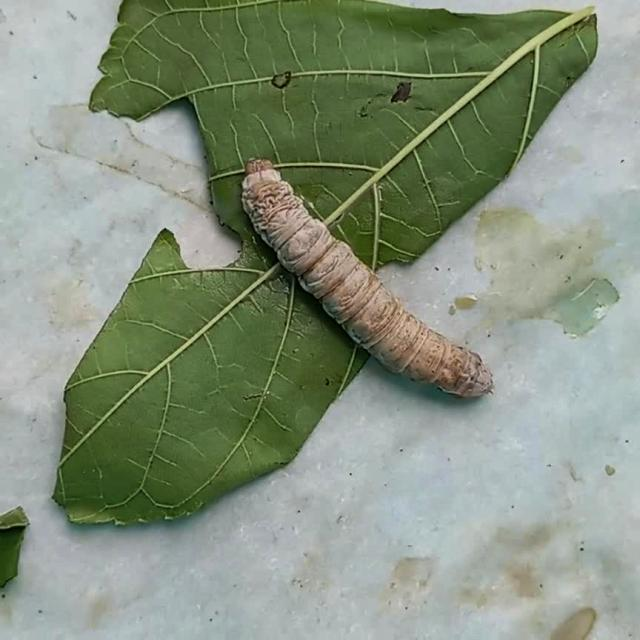Grasserie: (223, 129, 512, 425)
